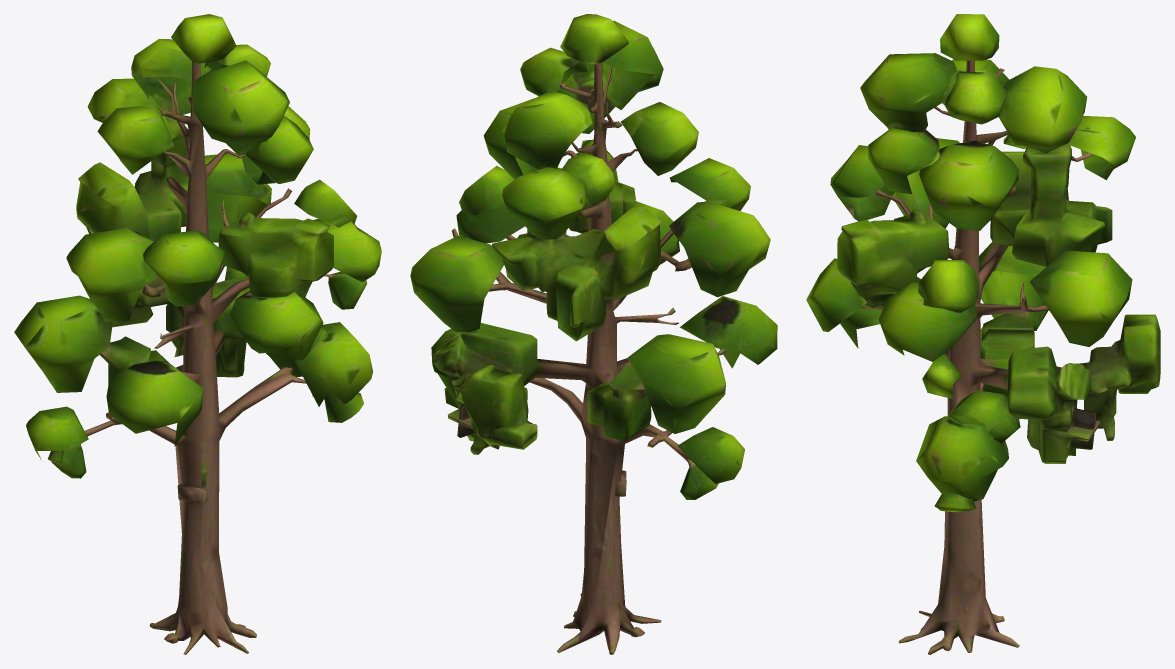
Rendered from khasi_pine.glb.
The picture shows the model from 3 angles, left to right: view 1: azimuth 30°, elevation 25°; view 2: azimuth 150°, elevation 25°; view 3: azimuth 270°, elevation 25°; orthographic projection.
Visible parts, largest first — view 1: Body; view 2: Body; view 3: Body.
Boxes of the visible parts, x1,y1,x2,y2 form: Body: (14,14,381,654); Body: (410,14,777,654); Body: (806,14,1160,654).
Size of the model in its own units: 7.06 by 13.03 by 6.73.
Materials: 1 (1 with a texture image).
